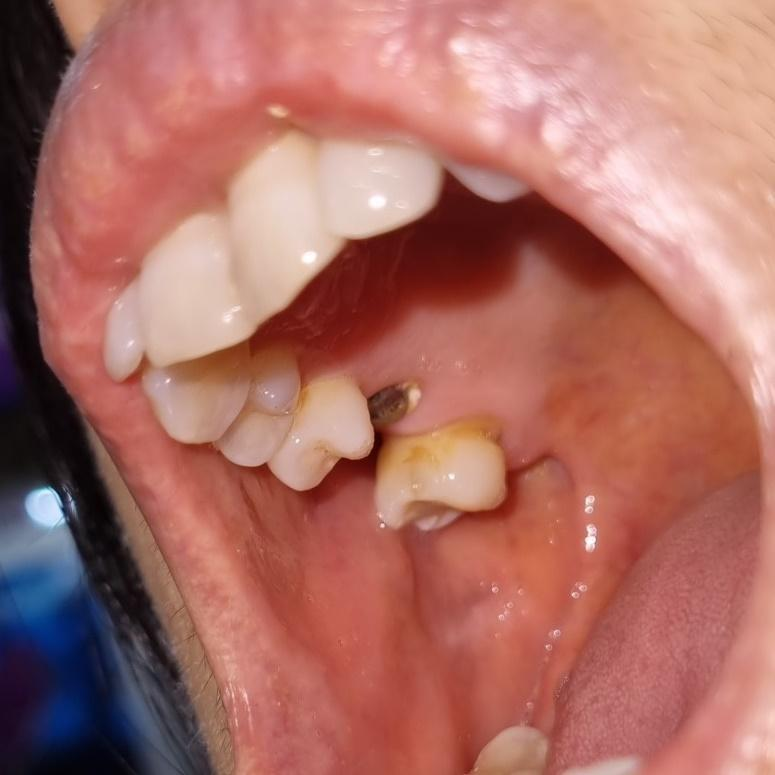Missing: (291, 389, 461, 512)
